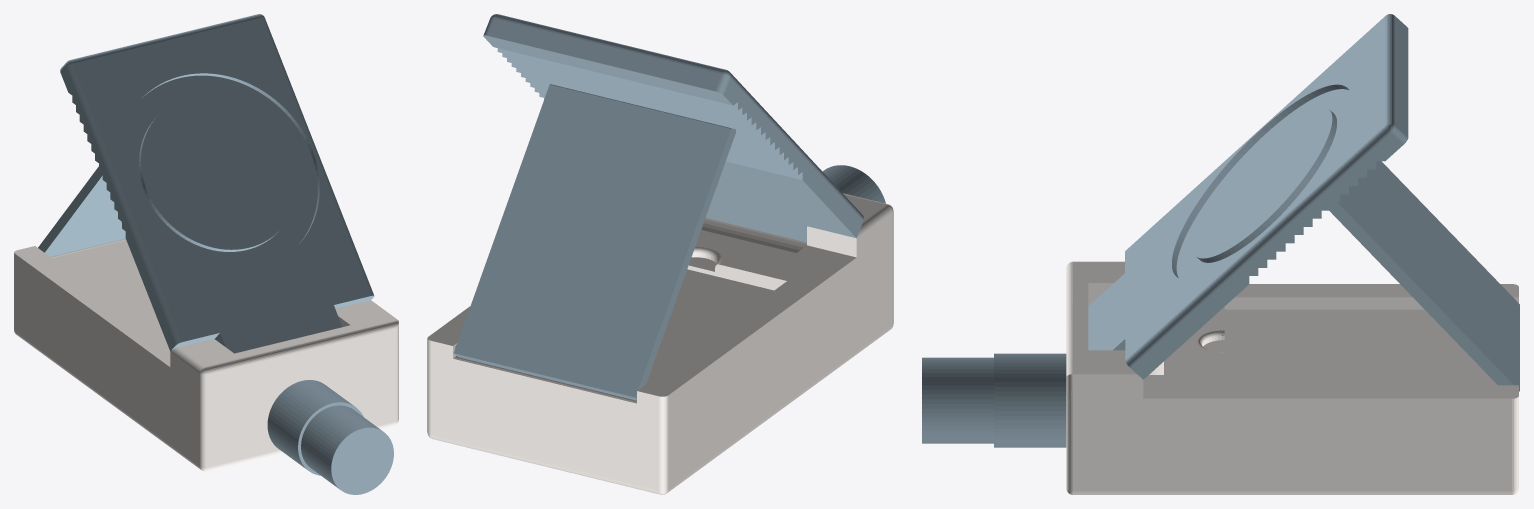
The model's file is final_open.glb.
The picture shows the model from 3 angles, left to right: view 1: azimuth 30°, elevation 25°; view 2: azimuth 150°, elevation 25°; view 3: azimuth 270°, elevation 25°; orthographic projection. The views are drawn at different scales.
Parts seen in each view (by area): view 1: Node1; view 2: Node1; view 3: Node1.
Boxes of the visible parts, <box> form: Node1: <box>14,14,398,494</box>; Node1: <box>427,14,893,494</box>; Node1: <box>922,14,1519,494</box>.
Size of the model in its own units: 60 by 91.22 by 132.
